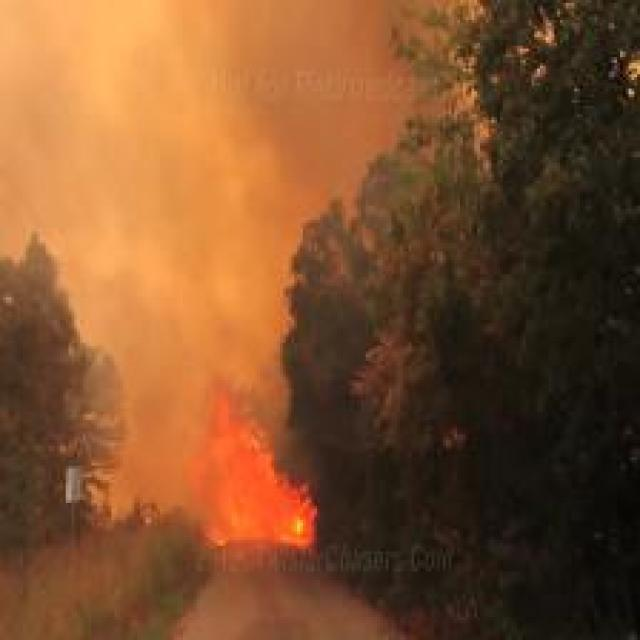Fire: (192, 392, 320, 548)
